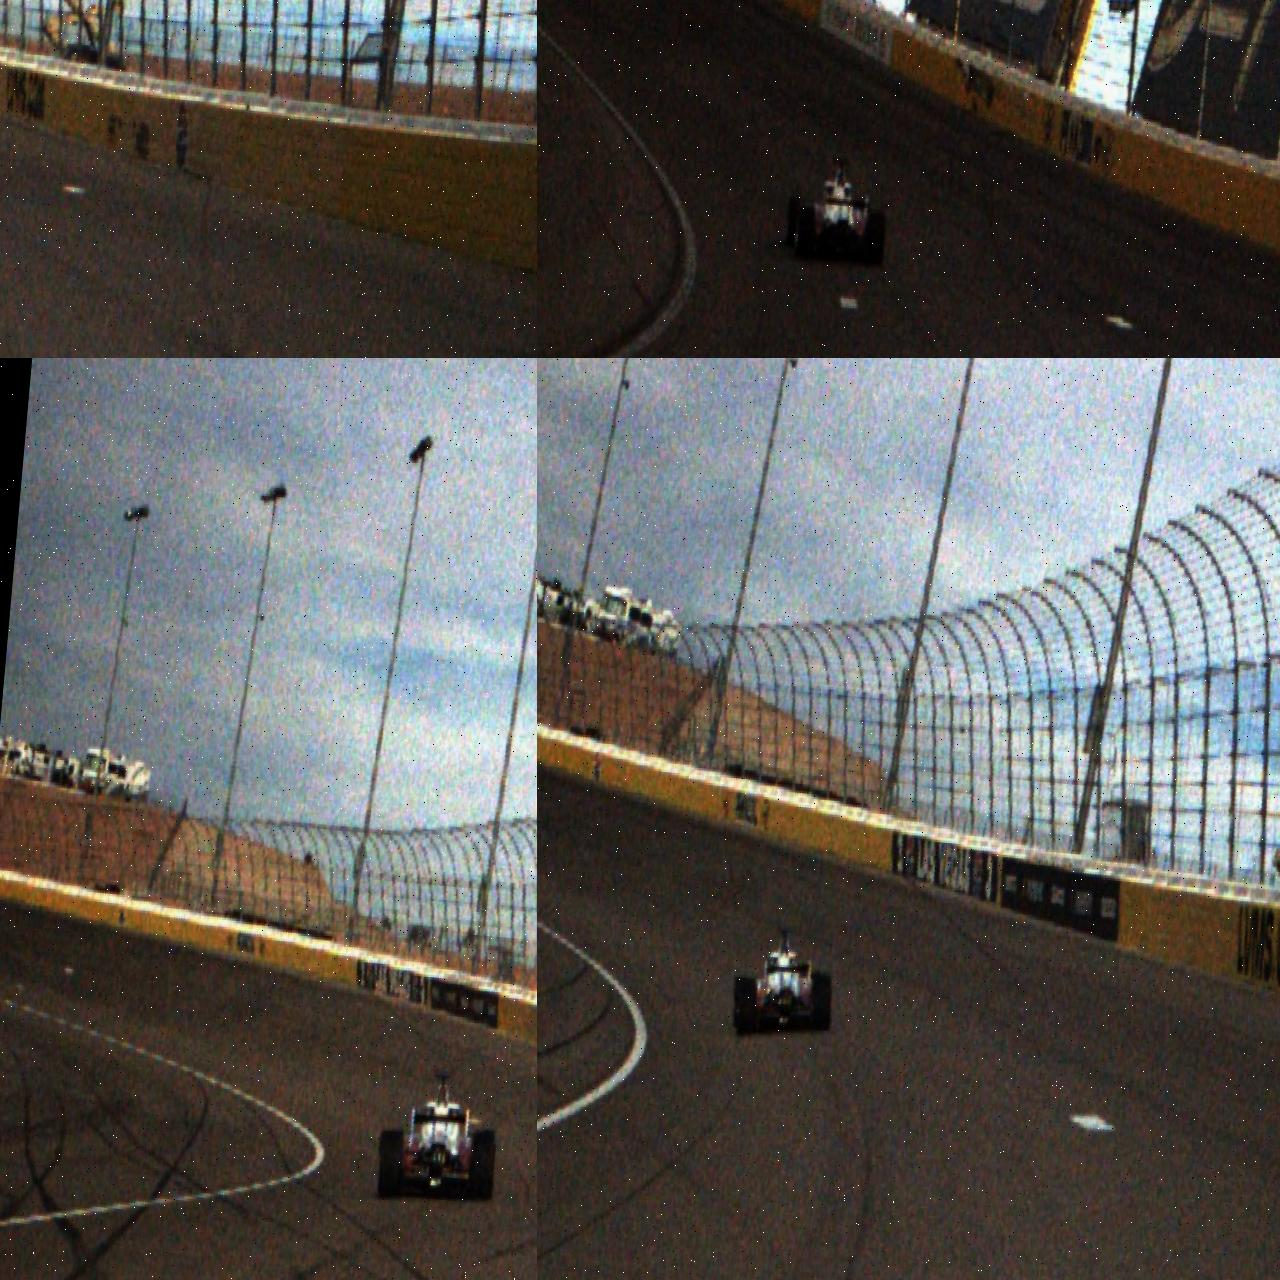AV: (376, 1066, 503, 1208), (730, 922, 839, 1044), (784, 153, 892, 270)
Wheel: (468, 1128, 498, 1202), (376, 1130, 404, 1200), (808, 974, 834, 1034), (864, 212, 888, 268), (736, 982, 759, 1037), (794, 205, 816, 262), (731, 976, 754, 1028), (784, 196, 802, 249)
